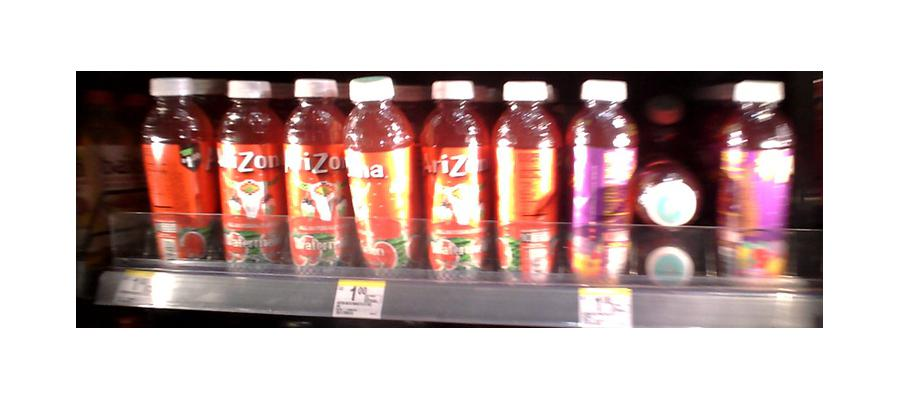bottle: (722, 84, 796, 285), (141, 68, 216, 266), (347, 75, 418, 273), (418, 78, 487, 280), (493, 77, 560, 284), (567, 80, 636, 281), (284, 71, 348, 276), (218, 76, 280, 274), (641, 153, 705, 288)
